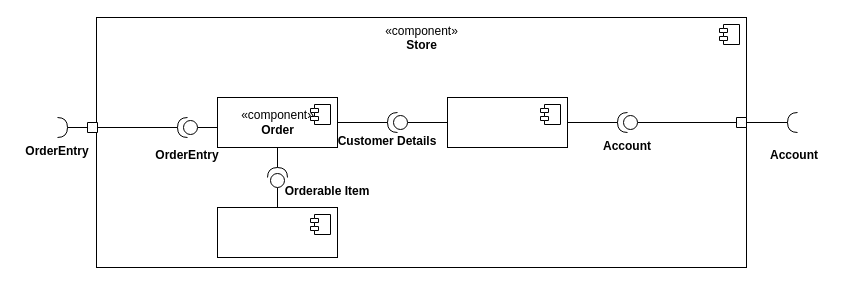
Image size: 851x293. Some labels were removed from this diagram. The centre of each missing label's shape, as x and y in pixels:
«component» Customer: (507,122)
«component» Product: (277,232)
